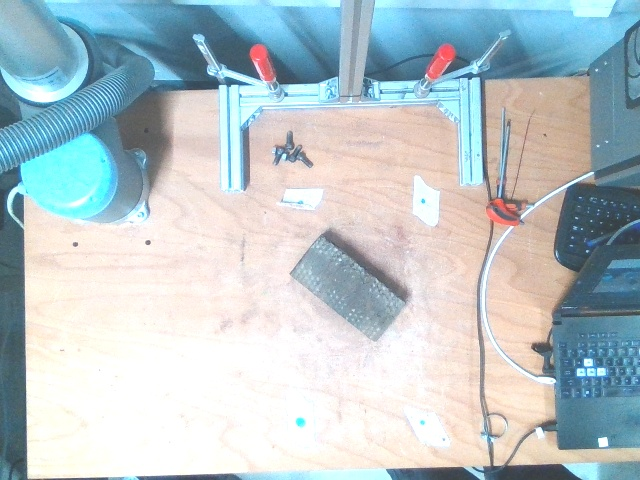brick: (289, 236, 406, 343)
